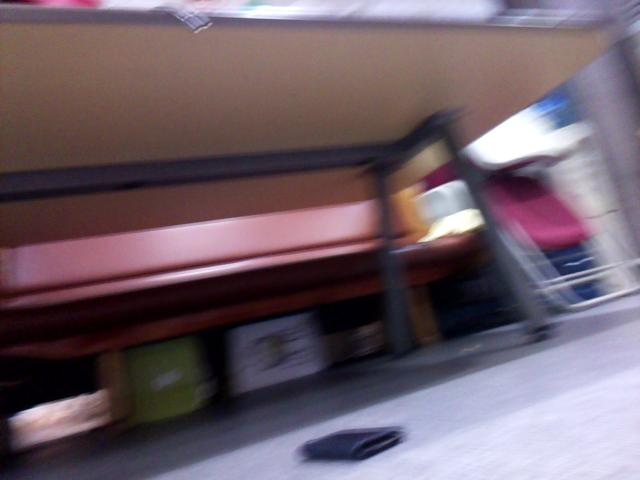wallet: (293, 425, 413, 467)
